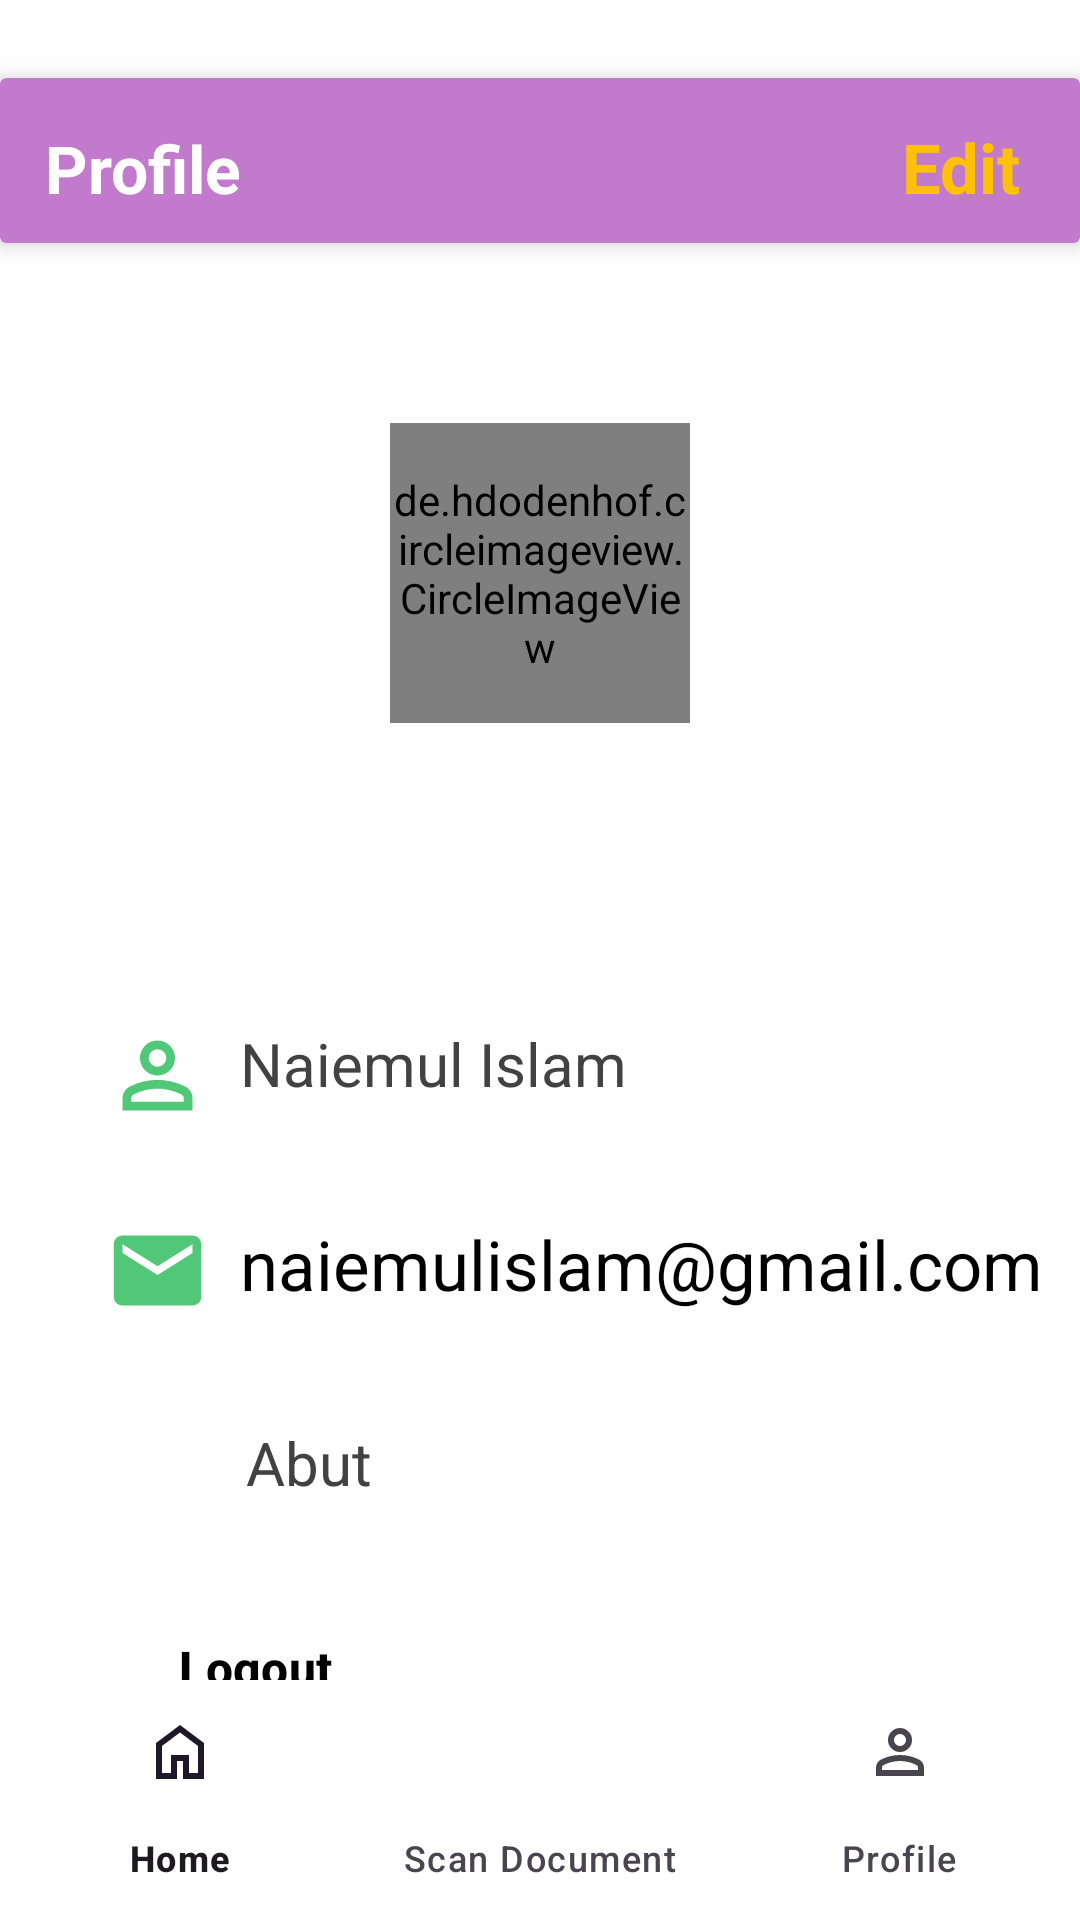

Icons on this 1080*1920 Android screen, each with the point to tap as (x=x, y=y):
email: (x=157, y=1270)
person: (x=157, y=1075)
